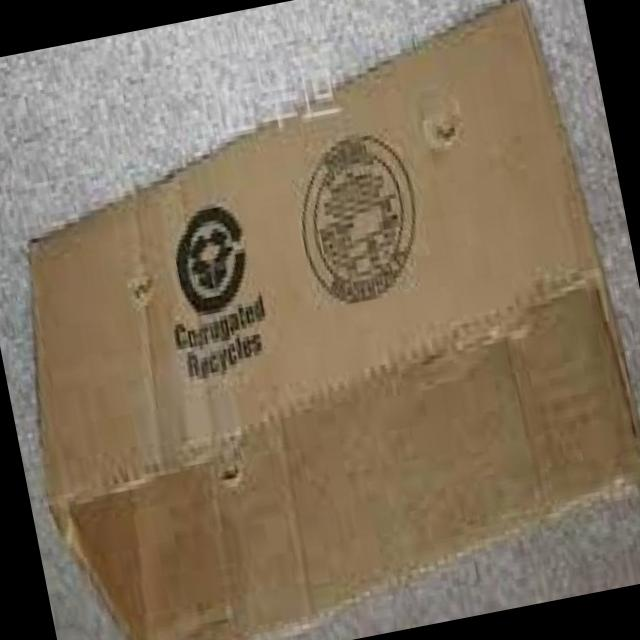cardboard paper: (32, 4, 640, 640)
